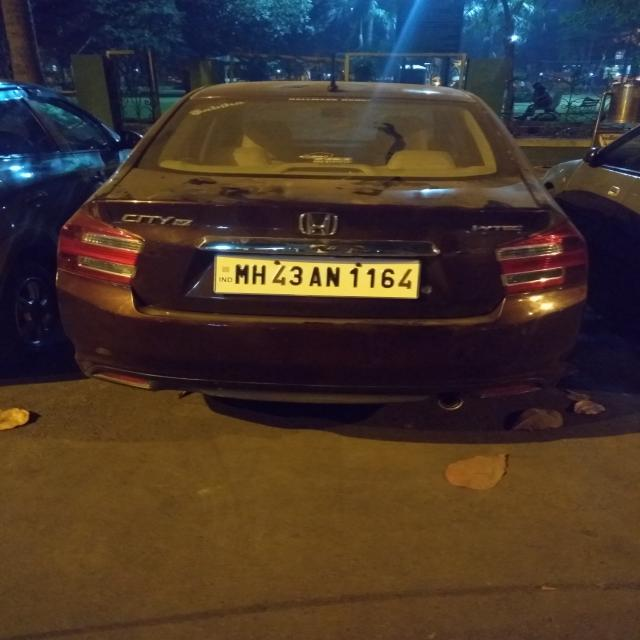Number-Plate: (212, 257, 420, 299)
